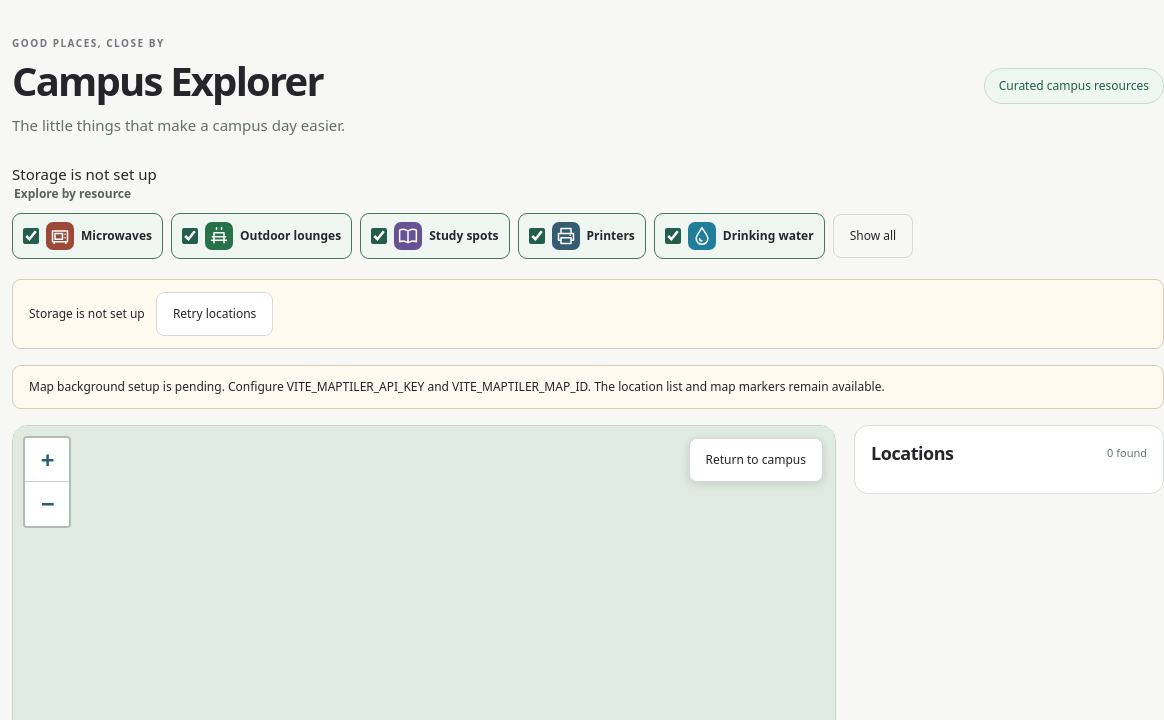
Test case: setup, successful empty, and storage failures remain distinct and retryable
The width and height of the screenshot is (1164, 720).
Expected: the message "Storage is not set up Retry locations" is shown, [12,279,1163,349]
Expected: the text "Map background setup is pending" is shown, [29,378,885,395]
Click the button "Retry locations": (215, 314) [156,292,273,336]
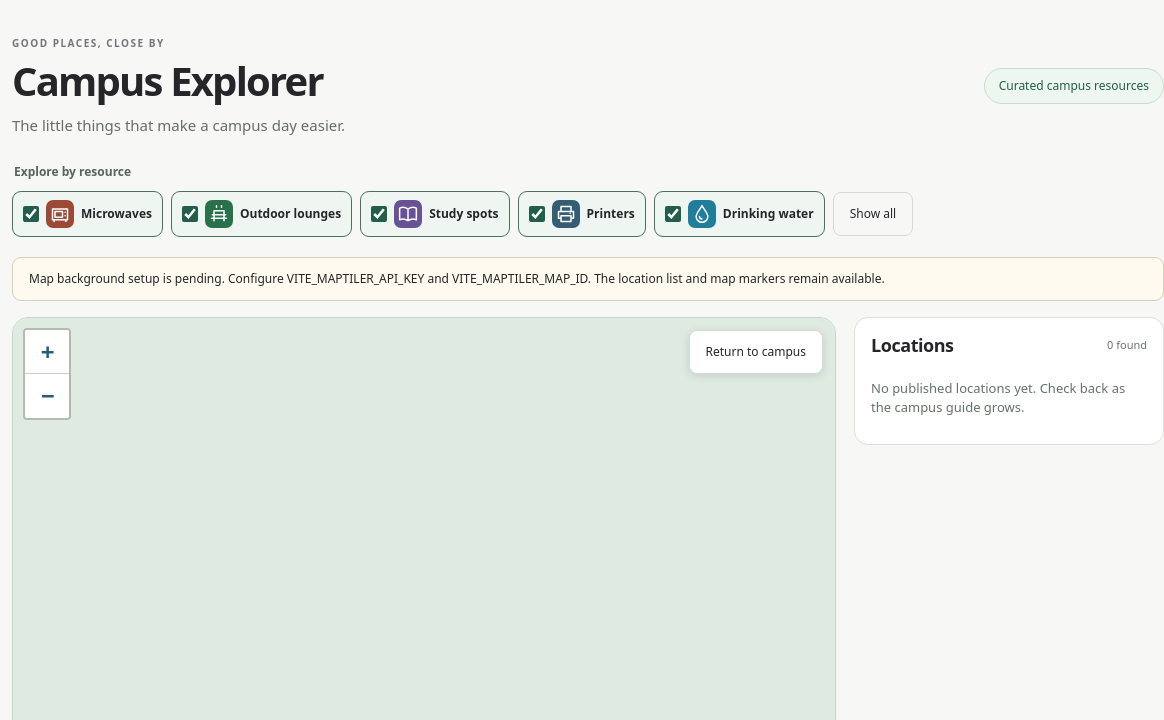
Expected: the text "No published locations yet" is shown, [871,379,1125,416]
Expected: the message "Storage is not set up" is gone
